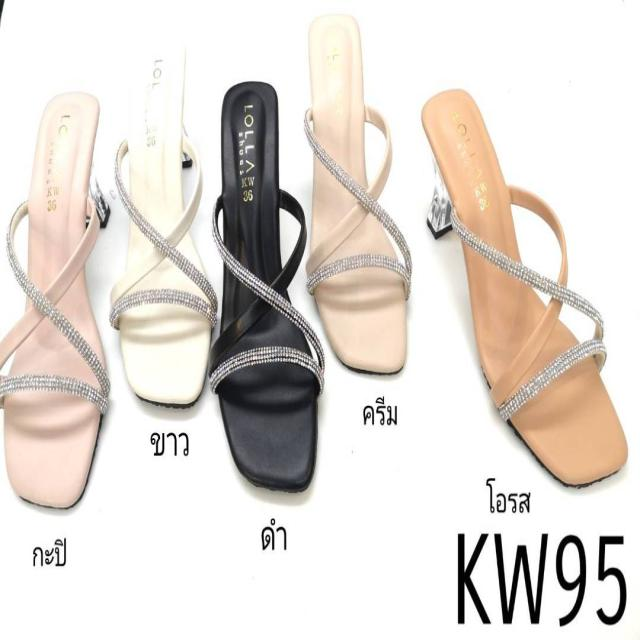black: (209, 77, 317, 488)
cream: (306, 13, 409, 374)
kapi: (7, 90, 109, 510)
orot: (423, 87, 624, 488)
white: (120, 37, 208, 401)
